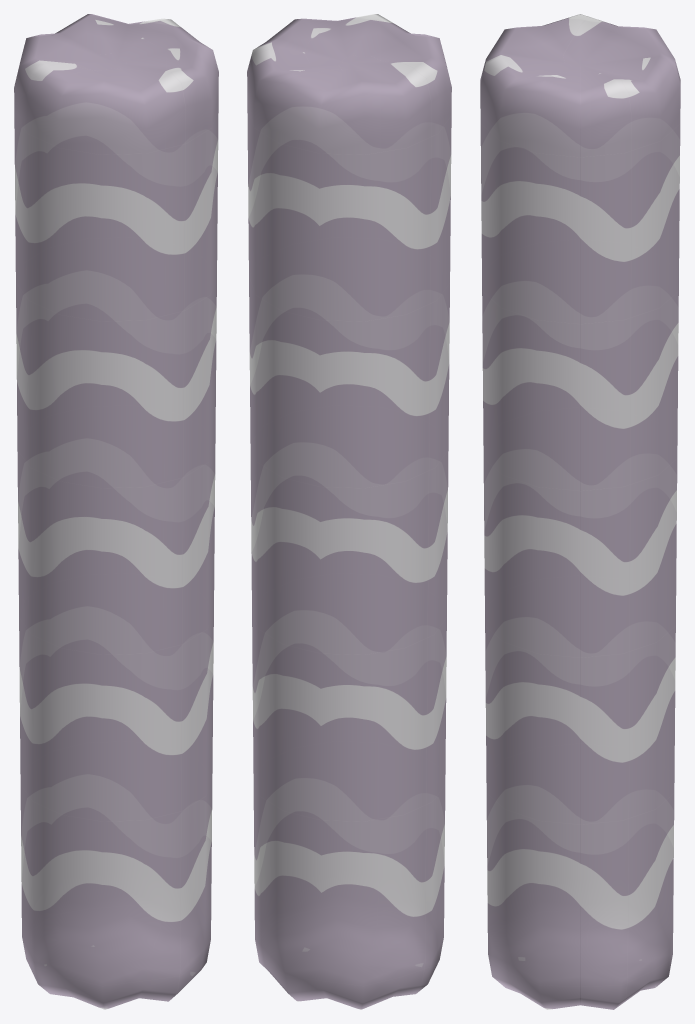
Rendered from WindColumn.fbx.
3 renders of one model, left to right at view 1: azimuth 30°, elevation 25°; view 2: azimuth 150°, elevation 25°; view 3: azimuth 270°, elevation 25°, orthographic.
Parts seen in each view (by area): view 1: WindColumn2; view 2: WindColumn2; view 3: WindColumn2.
Part boxes in pixels (left/top/right/bottom): WindColumn2: left=14, top=14, right=218, bottom=1009; WindColumn2: left=247, top=14, right=451, bottom=1009; WindColumn2: left=480, top=14, right=680, bottom=1009.
Size of the model in its own units: 3.45 by 17.24 by 3.36.
